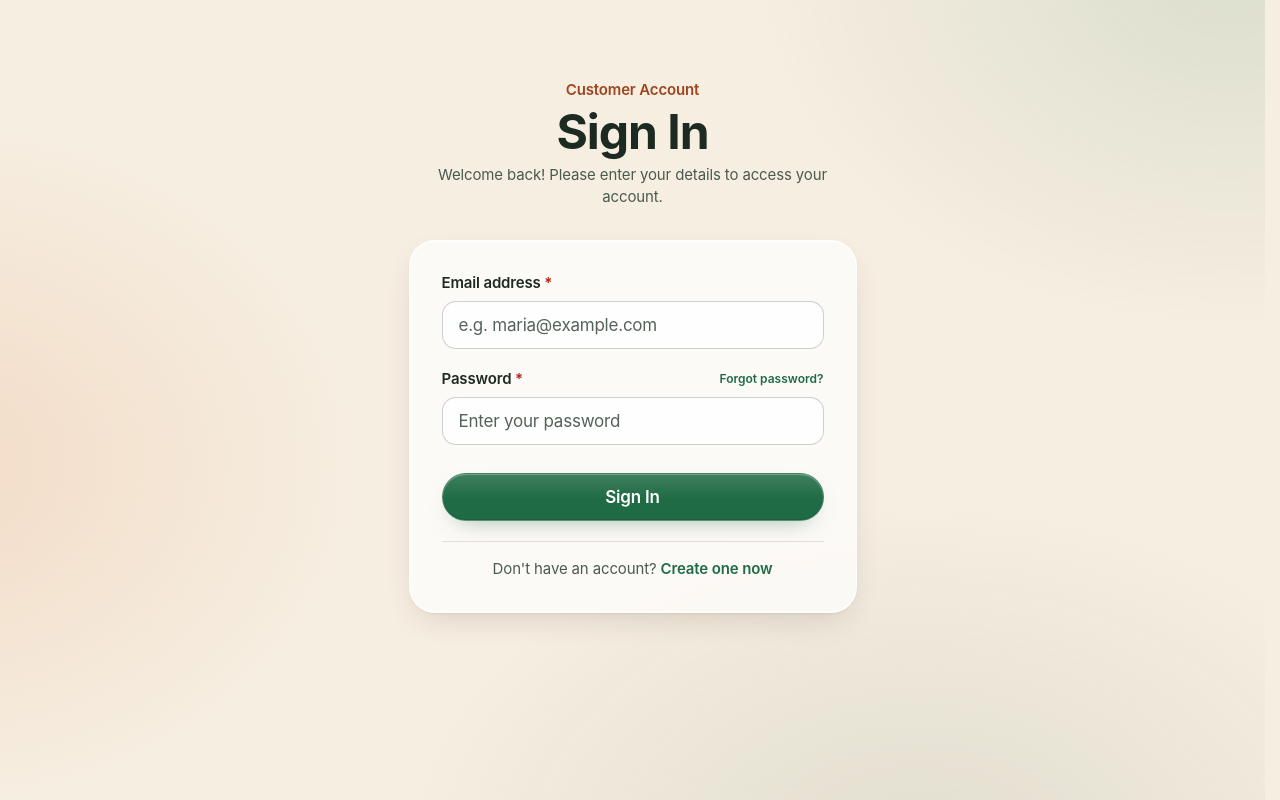
Test: Account Forms Component Tests › SignInView (FR-032) › TC-P4-166 — shows validation errors on empty submit
This screenshot has width=1280, height=800.
Click the button "Sign In". click: (632, 497)
box: [442,473,824,521]
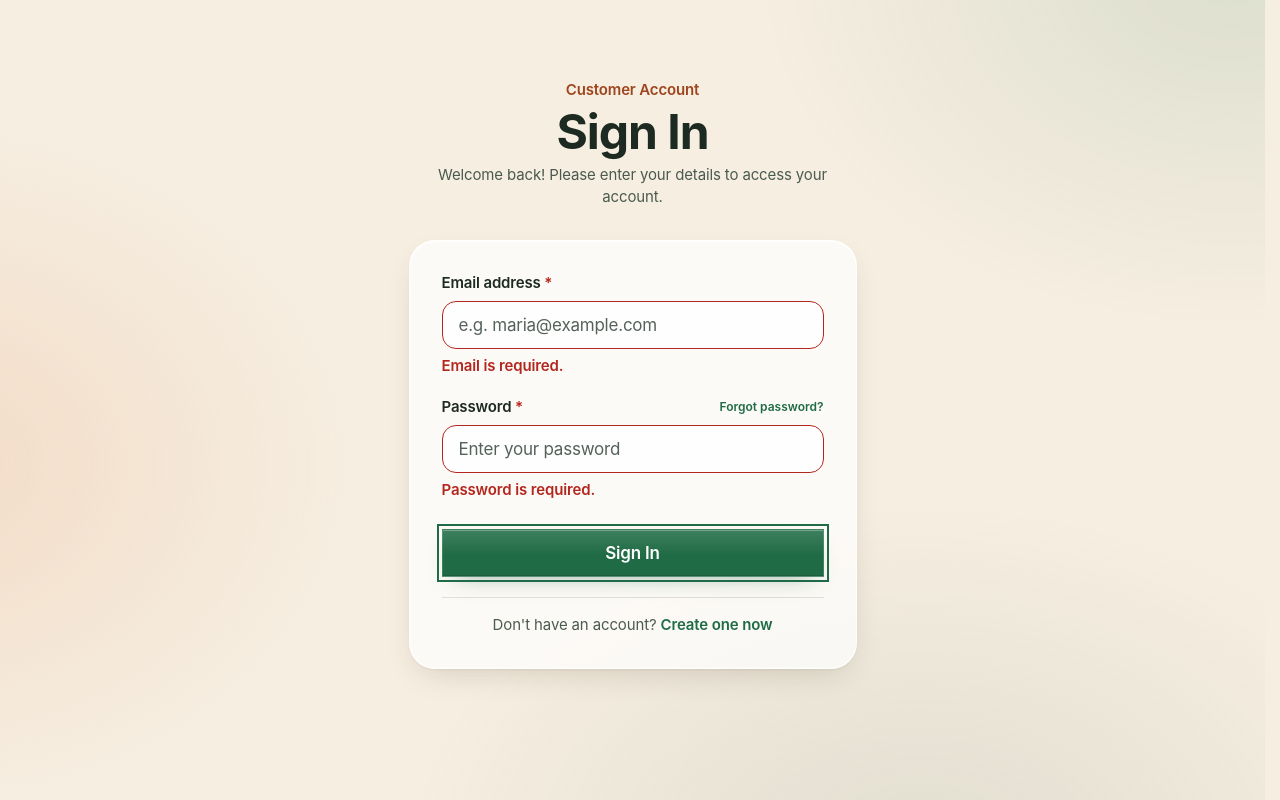
Check: the text "Email is required." is shown, box [442,356,564,375]
Check: the text "Password is required." is shown, box [442,480,595,499]
